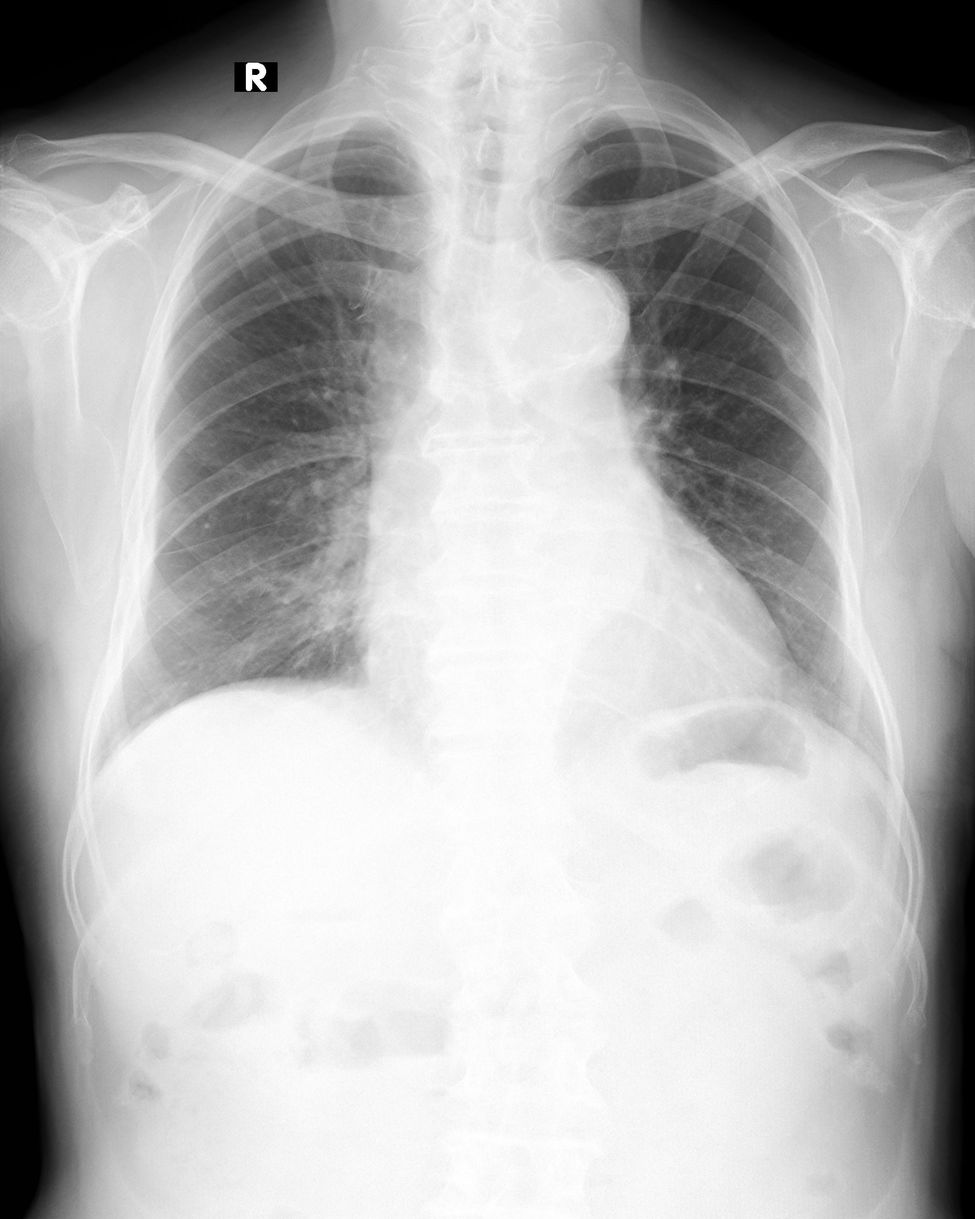Aortic enlargement: (486, 256, 630, 374)
Cardiomegaly: (360, 612, 815, 762)
